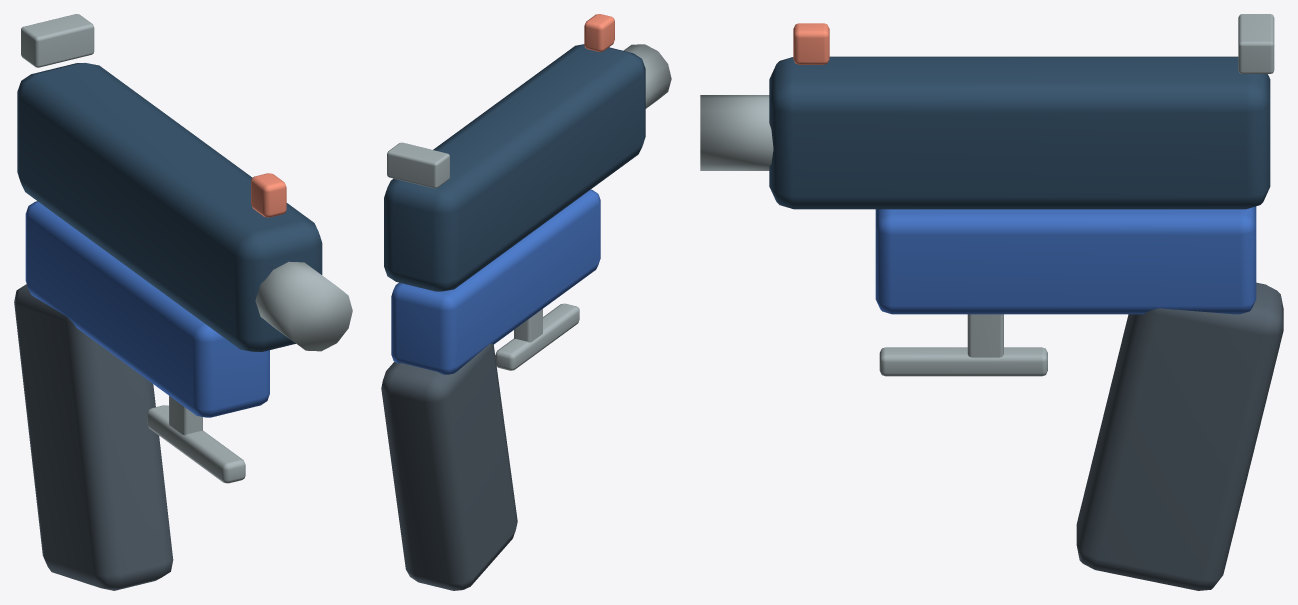
Rendered from HL_Pistol_Wave9.fbx.
The picture shows the model from 3 angles, left to right: view 1: azimuth 30°, elevation 25°; view 2: azimuth 150°, elevation 25°; view 3: azimuth 270°, elevation 25°; orthographic projection. The views are drawn at different scales.
Visible parts, largest first — view 1: Slide | gunmetal upper, Grip | angled checkered handle, Frame | cobalt lower, Barrel | bore, Sights | rear, Trigger | guard lower, Sights | front, Trigger | finger curve; view 2: Slide | gunmetal upper, Grip | angled checkered handle, Frame | cobalt lower, Sights | rear, Trigger | guard lower, Barrel | bore, Sights | front, Trigger | finger curve; view 3: Slide | gunmetal upper, Grip | angled checkered handle, Frame | cobalt lower, Barrel | bore, Trigger | guard lower, Sights | rear, Trigger | finger curve, Sights | front.
Part boxes in pixels (x1,y1,x2,y2): Slide | gunmetal upper: [17, 63, 322, 351]; Grip | angled checkered handle: [14, 284, 173, 590]; Frame | cobalt lower: [25, 201, 269, 417]; Barrel | bore: [255, 261, 352, 351]; Sights | rear: [21, 14, 94, 67]; Trigger | guard lower: [147, 405, 245, 483]; Sights | front: [251, 173, 286, 217]; Trigger | finger curve: [169, 396, 202, 435]; Slide | gunmetal upper: [384, 44, 645, 291]; Grip | angled checkered handle: [381, 343, 517, 590]; Frame | cobalt lower: [391, 189, 600, 374]; Sights | rear: [387, 142, 449, 188]; Trigger | guard lower: [495, 303, 579, 370]; Barrel | bore: [623, 44, 671, 108]; Sights | front: [584, 14, 614, 51]; Trigger | finger curve: [514, 309, 542, 342]; Slide | gunmetal upper: [769, 56, 1270, 209]; Grip | angled checkered handle: [1076, 282, 1283, 590]; Frame | cobalt lower: [875, 206, 1256, 314]; Barrel | bore: [700, 95, 773, 170]; Trigger | guard lower: [879, 347, 1047, 376]; Sights | rear: [1238, 14, 1274, 73]; Trigger | finger curve: [967, 314, 1003, 357]; Sights | front: [793, 23, 829, 64].
Size of the model in its own units: 5.2 by 30.44 by 29.12.
